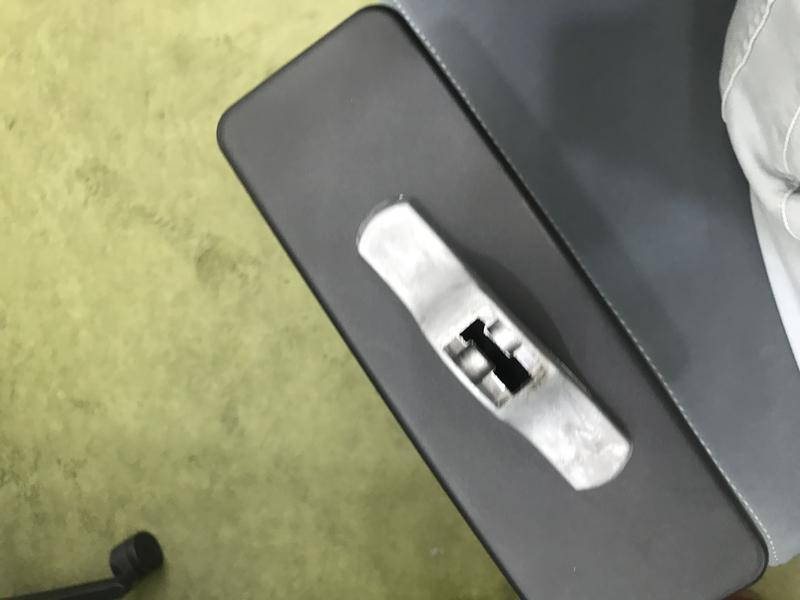zapchast: (344, 182, 643, 522)
